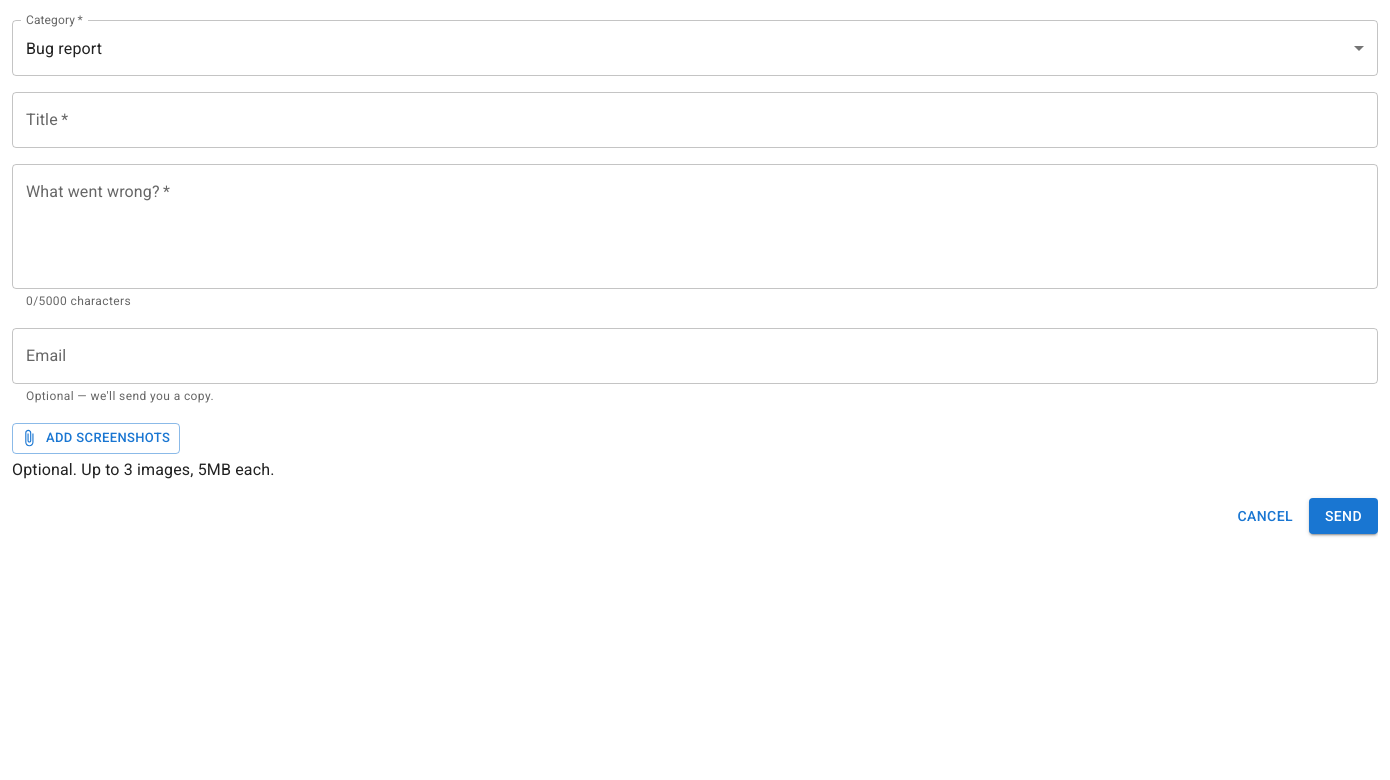
FeedbackForm › submits and renders the receipt on success
Type "Broken image" into the field labelled "Title *" at (695,120), box [12,92,1378,148]
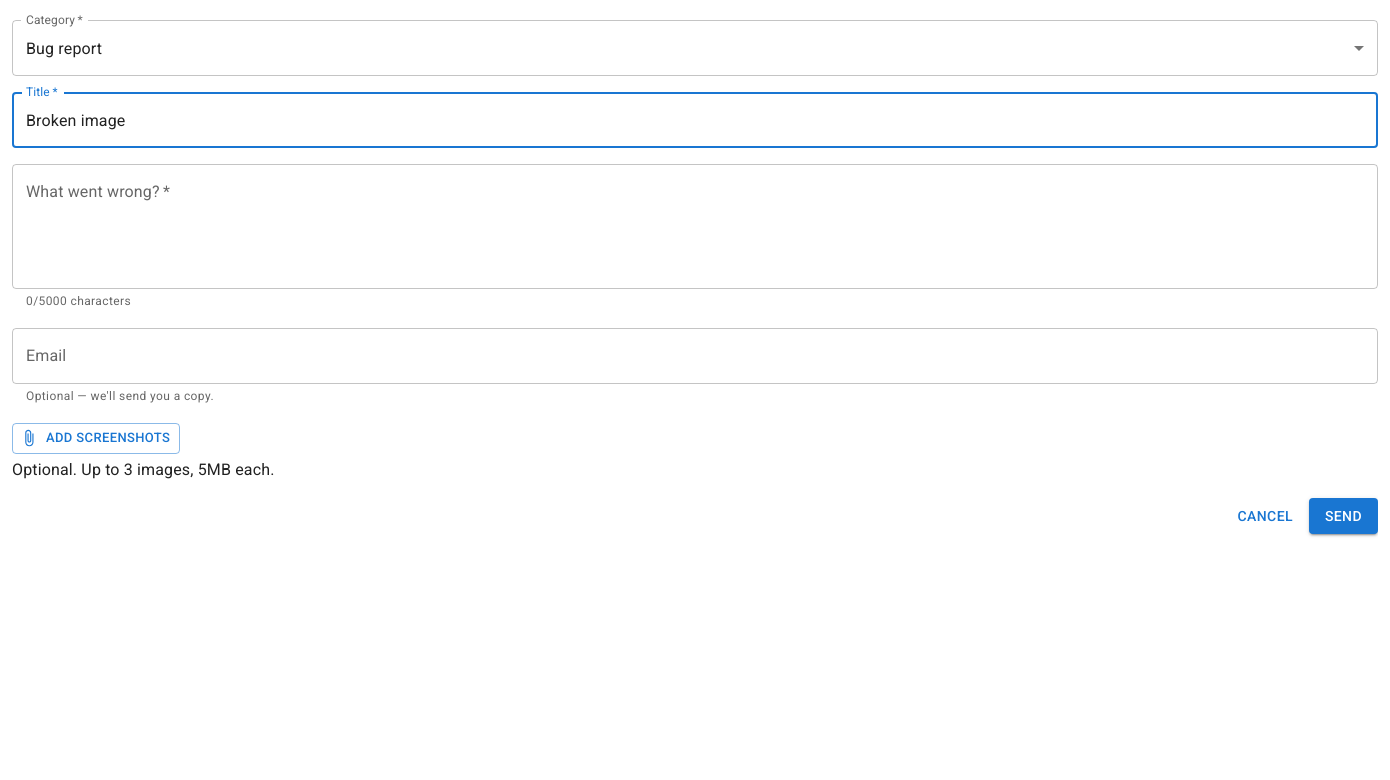
Type "The thumbnail is blank." into the text box labelled "What went wrong? *" at (695,226), box [26,180,1364,272]
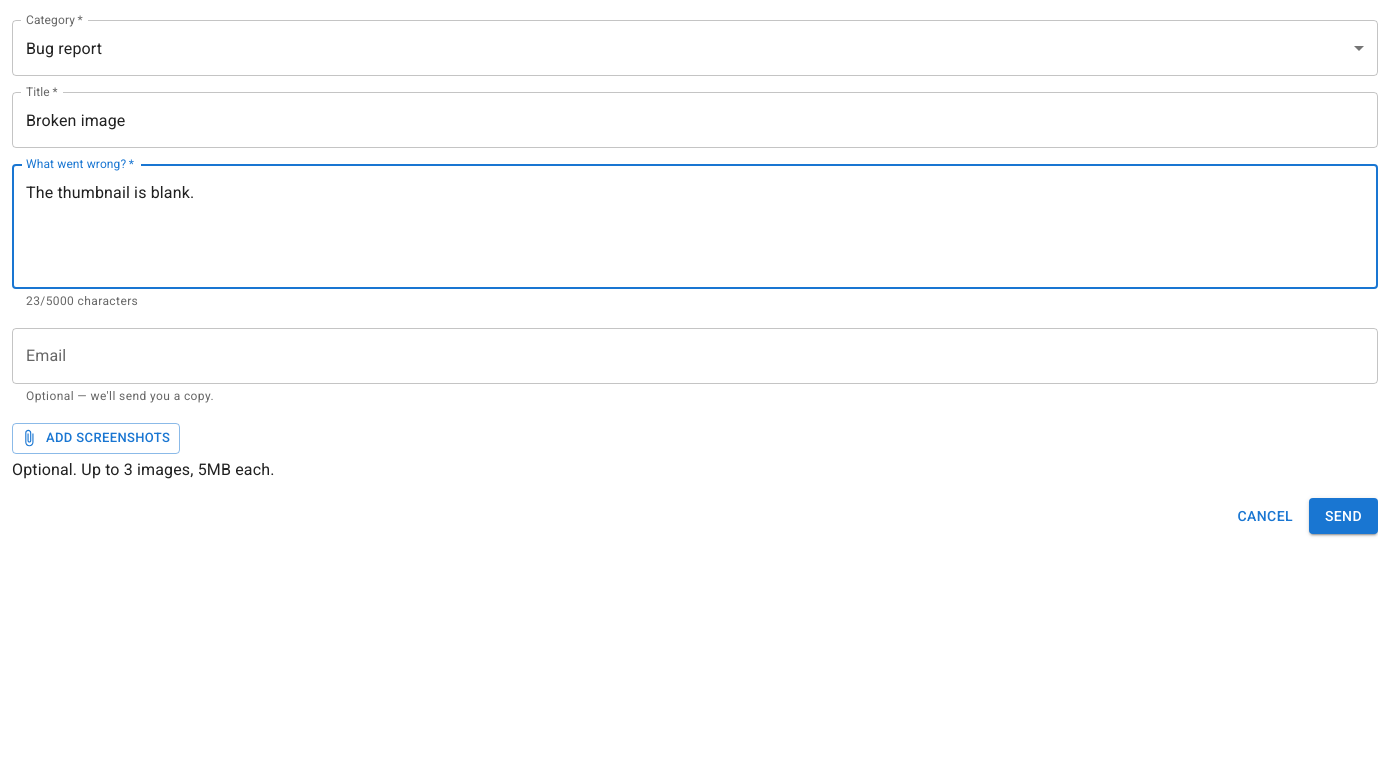
Click the button "Send" at (1343,516), box [1309,498,1378,534]
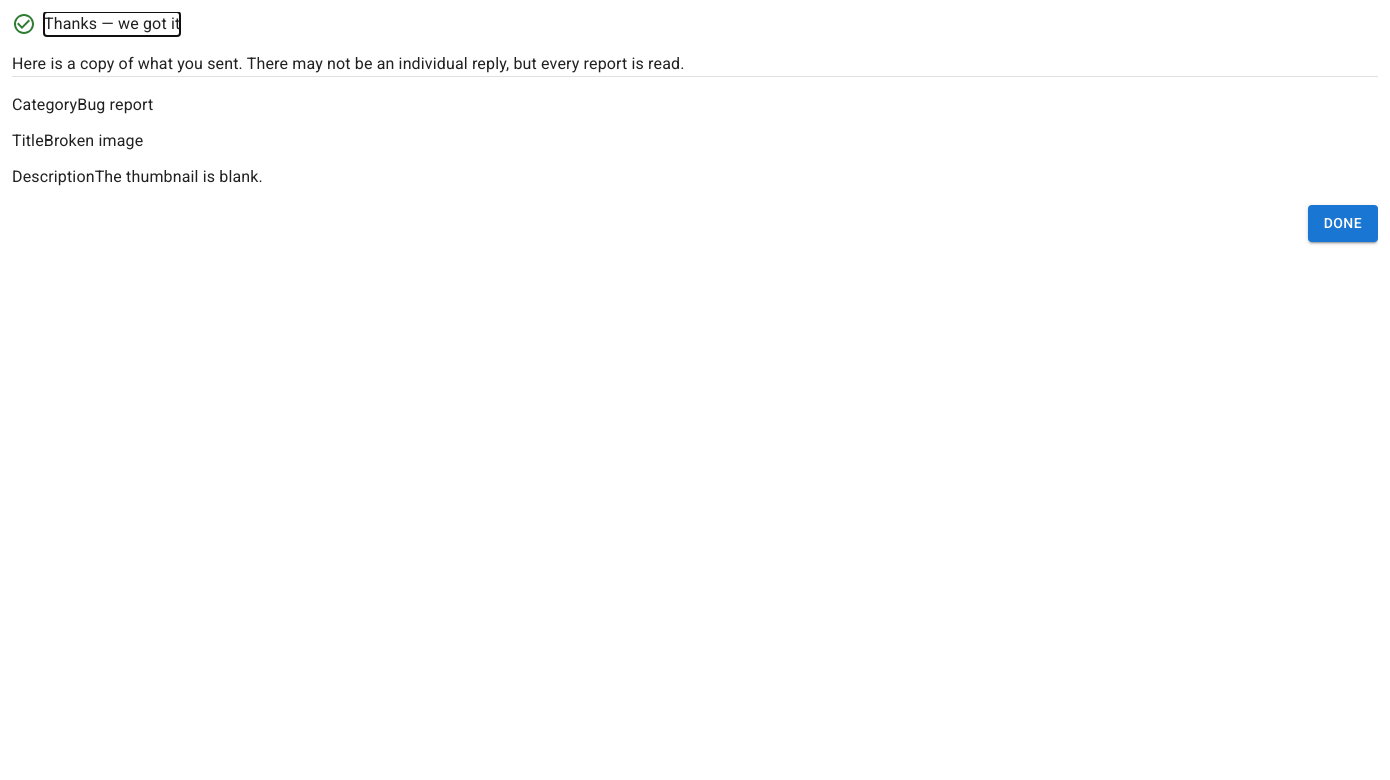
Result: the heading "Thanks — we got it" is shown at [44,12,180,36]
Result: the text "Broken image" is shown at [44,131,143,150]
